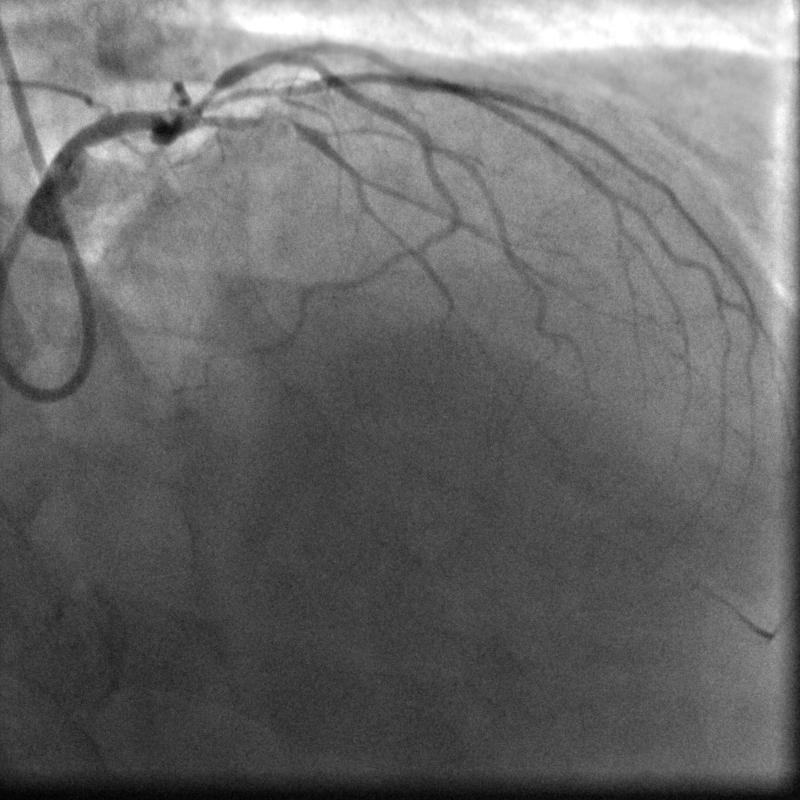Stenosis: (191, 77, 227, 109)
